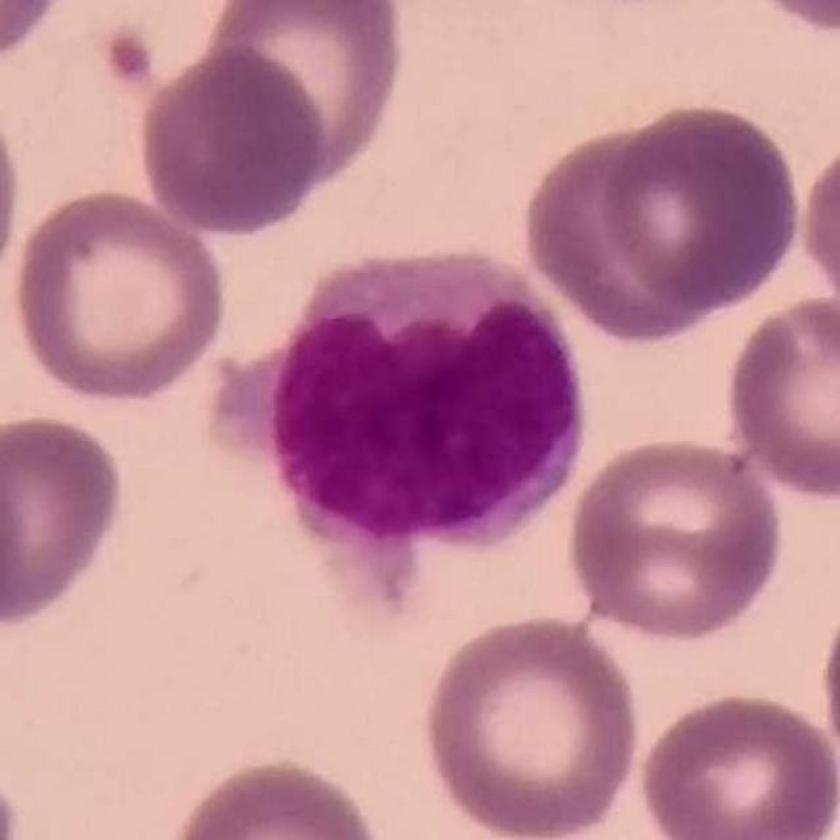monocyte: (215, 242, 613, 604)
